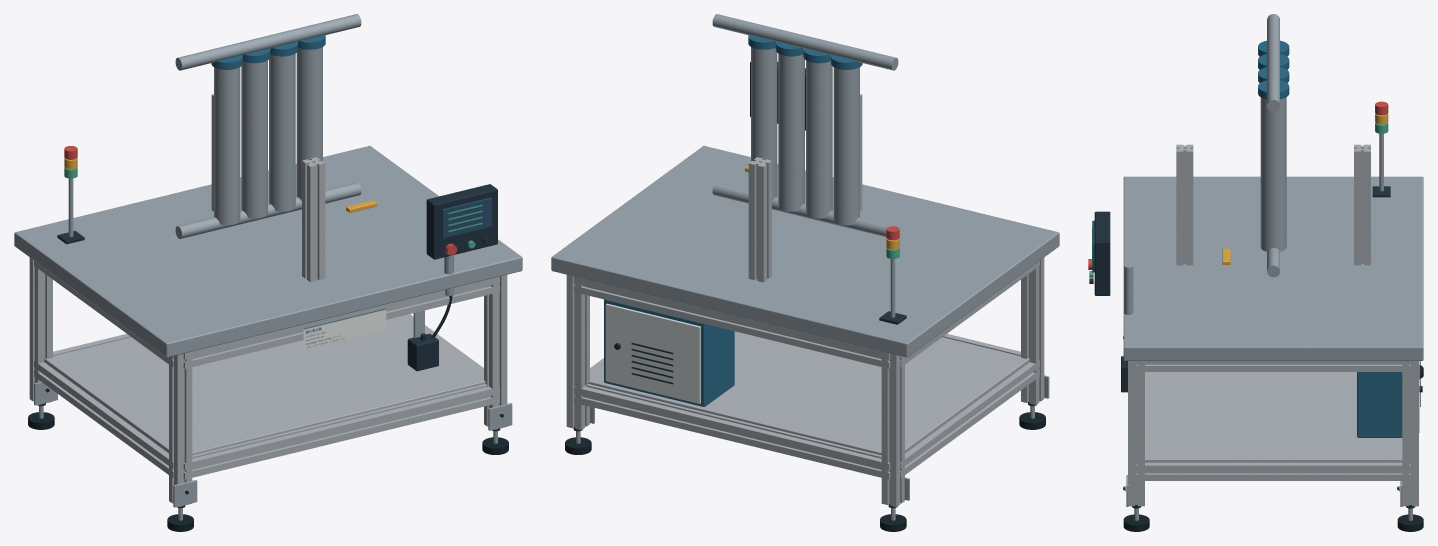
The model's file is membrane-filter-cell.glb.
3 views of the same model, side by side, from view 1: azimuth 30°, elevation 25°; view 2: azimuth 150°, elevation 25°; view 3: azimuth 270°, elevation 25° (orthographic).
Parts seen in each view (by area): view 1: ClosedMachineBed_40, LowerShelf_41, SlottedExtrusion_34, FilterHousing_73, FilterHousing_77, FilterHousing_75, SlottedExtrusion_35, FilterHousing_79, SlottedExtrusion_11, SlottedExtrusion_36, SlottedExtrusion_72, SlottedExtrusion_27 (+8 smaller); view 2: ClosedMachineBed_40, LowerShelf_41, BackDoor_43, SlottedExtrusion_32, SlottedExtrusion_33, FilterHousing_73, FilterHousing_77, FilterHousing_75, SlottedExtrusion_3, SlottedExtrusion_19, FilterHousing_79, Cabinet_42 (+6 smaller); view 3: ClosedMachineBed_40, LowerShelf_41, SlottedExtrusion_38, FilterHousing_79, Cabinet_42, SlottedExtrusion_39, SlottedExtrusion_27, SlottedExtrusion_19, SlottedExtrusion_72, SlottedExtrusion_71, ConsoleBack_52, OutletHeader_82 (+3 smaller).
Part boxes in pixels (box(x1,y1,x2,y2)): ClosedMachineBed_40: box(14, 145, 522, 357); LowerShelf_41: box(44, 315, 485, 455); SlottedExtrusion_34: box(183, 384, 499, 479); FilterHousing_73: box(214, 67, 240, 225); FilterHousing_77: box(269, 53, 295, 211); FilterHousing_75: box(241, 60, 267, 218); SlottedExtrusion_35: box(183, 276, 499, 368); FilterHousing_79: box(296, 47, 322, 200); SlottedExtrusion_11: box(169, 352, 192, 507); SlottedExtrusion_36: box(34, 360, 173, 478); SlottedExtrusion_72: box(302, 157, 325, 282); SlottedExtrusion_27: box(484, 275, 507, 430); ClosedMachineBed_40: box(551, 145, 1059, 357); LowerShelf_41: box(588, 331, 1029, 455); BackDoor_43: box(605, 303, 700, 403); SlottedExtrusion_32: box(574, 384, 890, 479); SlottedExtrusion_33: box(574, 276, 890, 368); FilterHousing_73: box(833, 67, 859, 225); FilterHousing_77: box(778, 53, 804, 211); FilterHousing_75: box(806, 60, 832, 218); SlottedExtrusion_3: box(881, 351, 904, 507); SlottedExtrusion_19: box(566, 275, 589, 430); FilterHousing_79: box(751, 47, 777, 200); Cabinet_42: box(604, 299, 734, 406); ClosedMachineBed_40: box(1123, 176, 1423, 360); LowerShelf_41: box(1145, 372, 1402, 462); SlottedExtrusion_38: box(1136, 462, 1410, 480); FilterHousing_79: box(1260, 97, 1286, 251); Cabinet_42: box(1357, 372, 1402, 437); SlottedExtrusion_39: box(1136, 361, 1410, 371); SlottedExtrusion_27: box(1128, 361, 1144, 506); SlottedExtrusion_19: box(1402, 361, 1418, 506); SlottedExtrusion_72: box(1176, 144, 1193, 265); SlottedExtrusion_71: box(1354, 144, 1370, 265); ConsoleBack_52: box(1094, 211, 1110, 295); OutletHeader_82: box(1267, 14, 1279, 111).
Size of the model in its own units: 1.55 by 1.67 by 1.29.
Materials: 11 (3 with a texture image).
